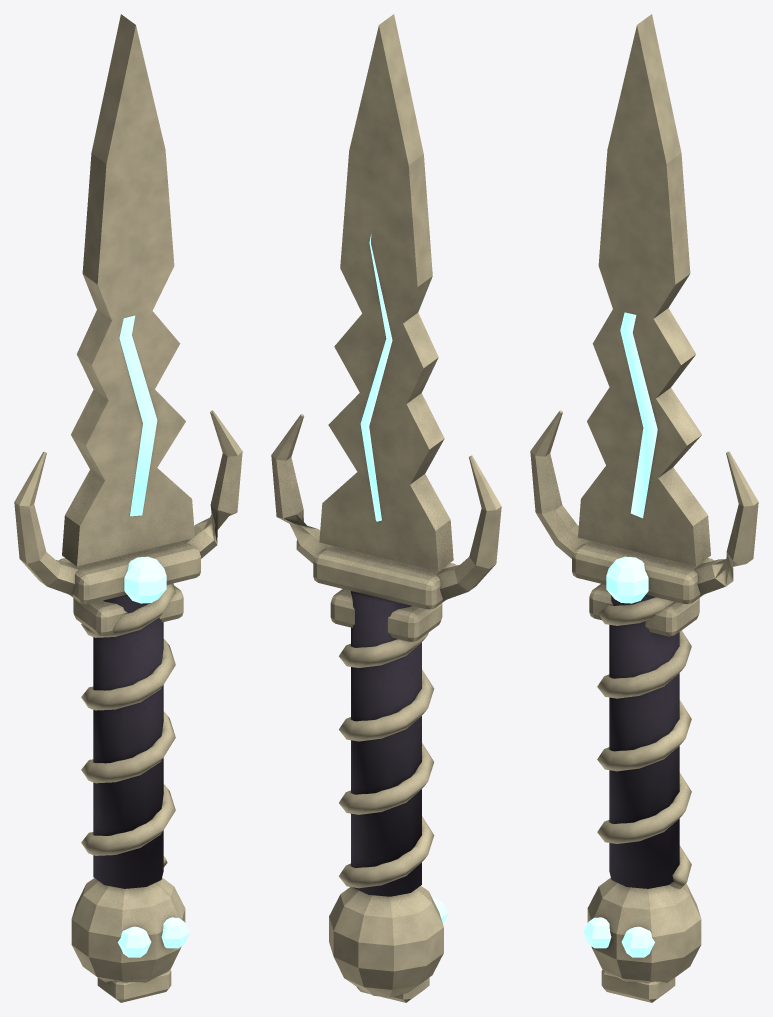
Rendered from 09_dead_dagger.fbx.
3 renders of one model, left to right at view 1: azimuth 30°, elevation 25°; view 2: azimuth 150°, elevation 25°; view 3: azimuth 330°, elevation 25°, orthographic.
Parts seen in each view (by area): view 1: Weapon; view 2: Weapon; view 3: Weapon.
Part boxes in pixels (bbox=[...]): Weapon: bbox=[14, 14, 242, 1002]; Weapon: bbox=[271, 14, 501, 1002]; Weapon: bbox=[530, 14, 758, 1002].
Size of the model in its own units: 13.54 by 56 by 6.45.
Materials: 2 (1 with a texture image).
